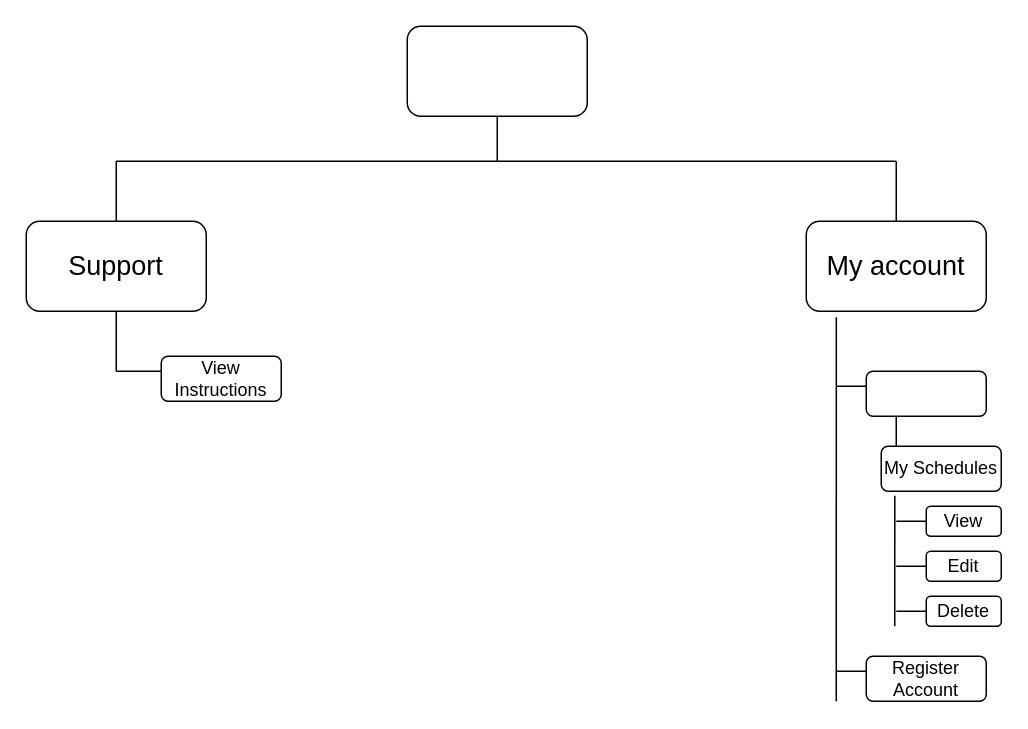
This 1028x729 diagram has some shape labels left out. The shapes that lost their labels are listed below. From the top down, each one's centre as x and y in pixels, then its label:
At pixel 496 70: "Home".
At pixel 925 393: "Login".
